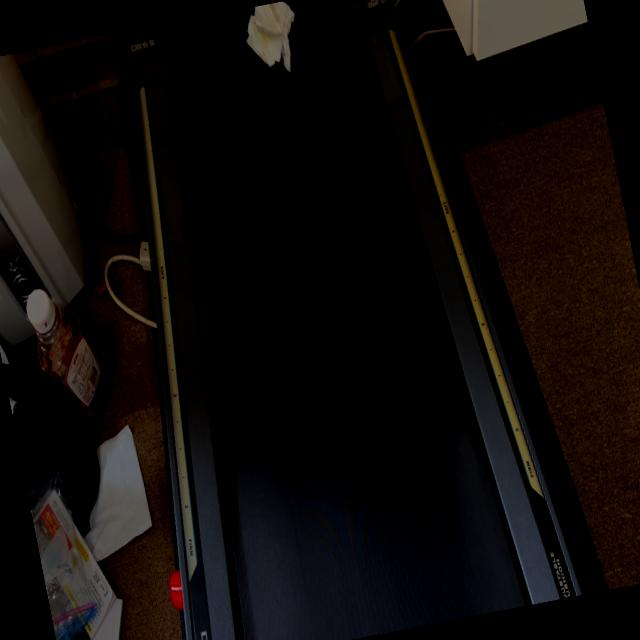Recycle: (225, 0, 334, 106)
